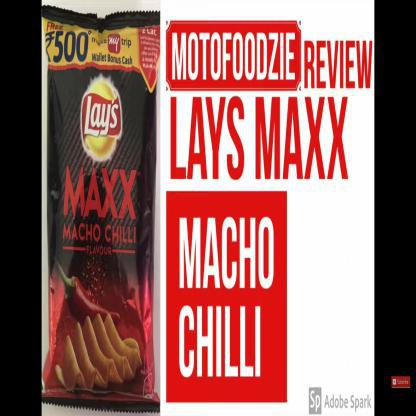max_chili: (44, 5, 160, 414)
